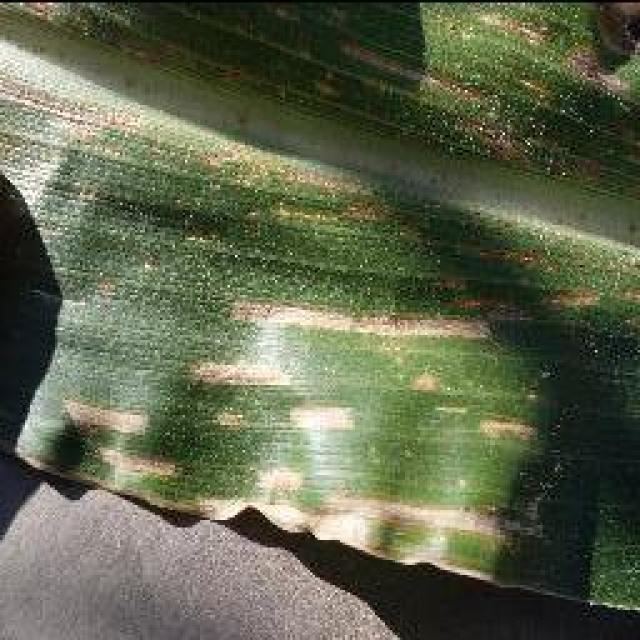Corn_Grey_Leaf_Spot: (61, 106, 636, 544)
